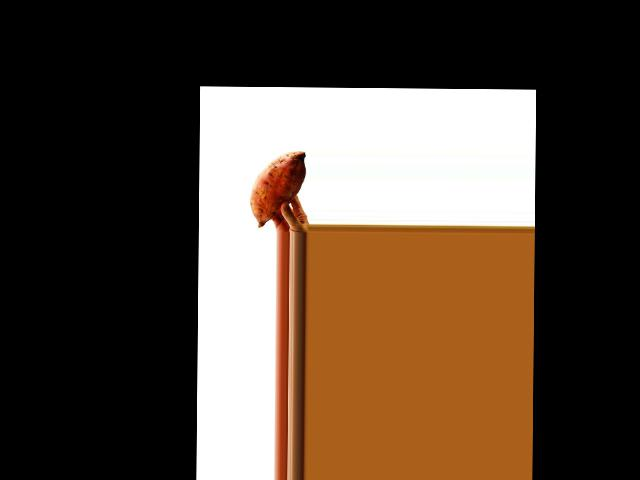sweet_potato: (245, 148, 308, 225)
